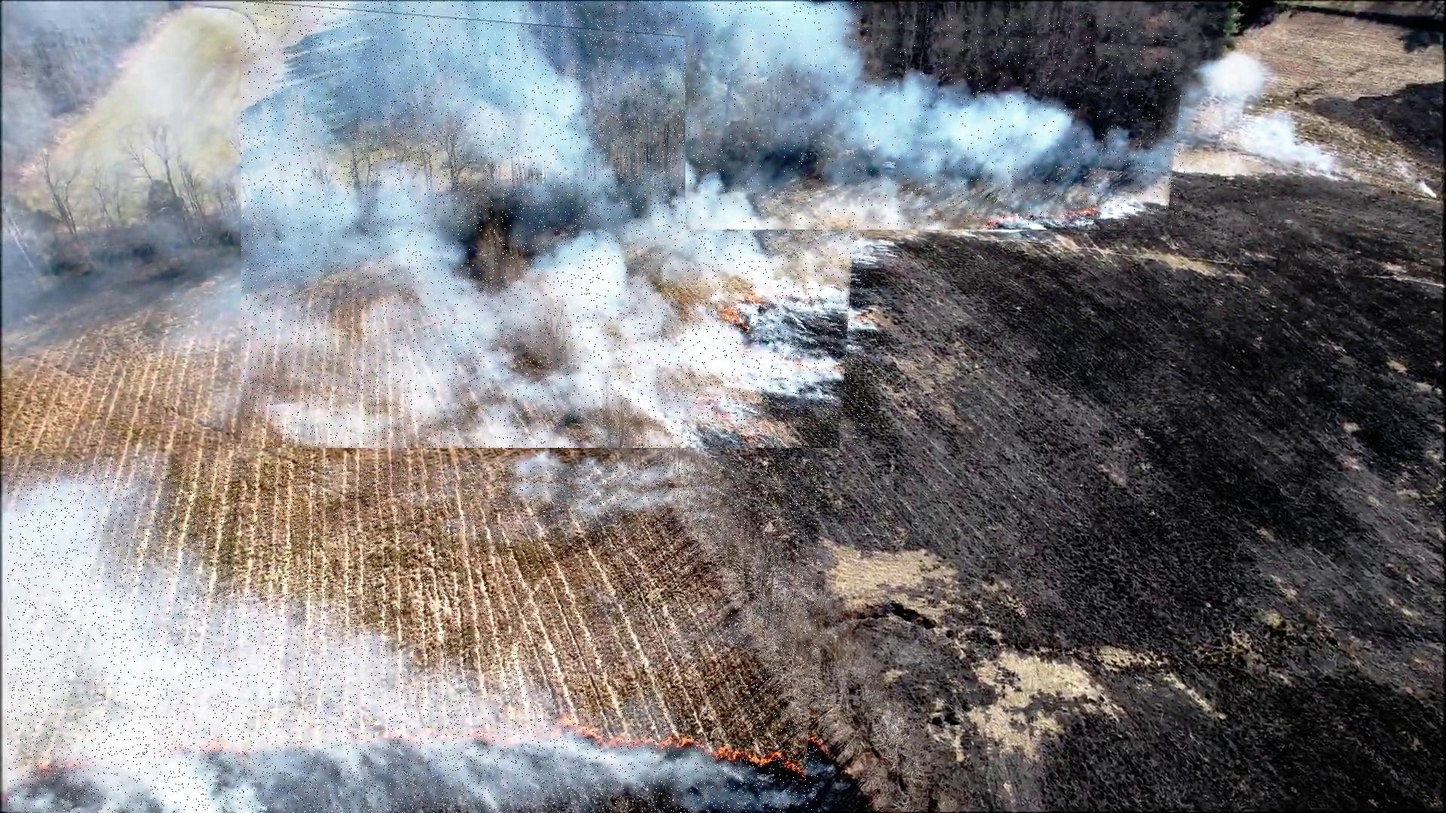smoke: (8, 463, 821, 813), (241, 0, 866, 448), (685, 15, 1186, 230)
